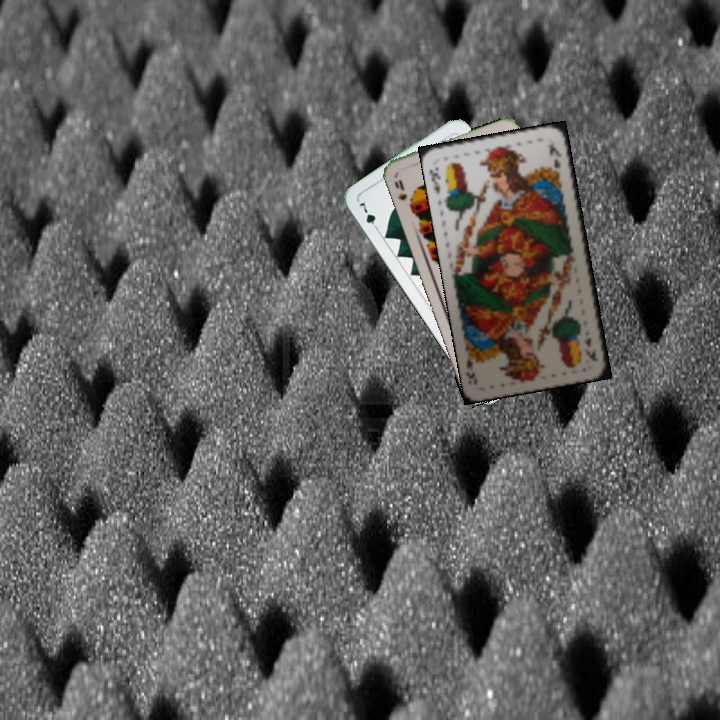EK: (580, 333, 601, 364), (426, 163, 443, 196)
G7: (355, 198, 382, 234)
S9: (390, 176, 415, 211)
